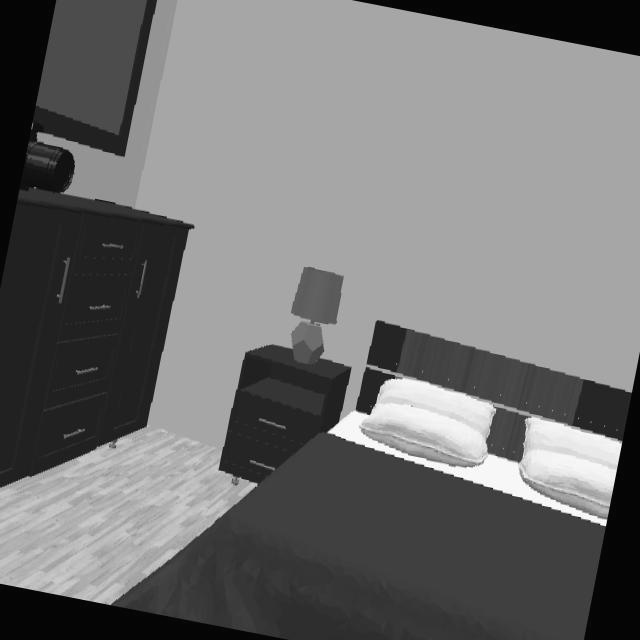bed: (111, 321, 631, 640)
cabinet: (0, 191, 191, 488)
lamp: (289, 267, 344, 369)
nighttable: (219, 346, 351, 485)
pillow: (327, 379, 497, 476), (517, 417, 622, 519)
